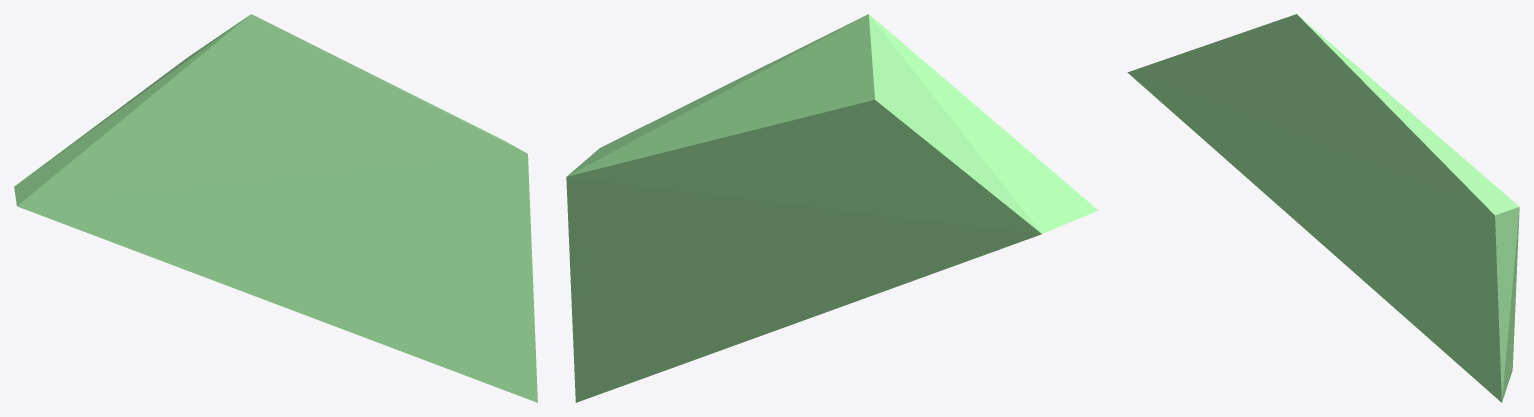
The model's file is xarm7_with_gripper_LR4_R560_link2_respondable_coll_21.dae.
3 views of the same model, side by side, from view 1: azimuth 30°, elevation 25°; view 2: azimuth 150°, elevation 25°; view 3: azimuth 330°, elevation 25° (orthographic). The views are drawn at different scales.
Parts seen in each view (by area): view 1: Node_000001B89B5E2DC0; view 2: Node_000001B89B5E2DC0; view 3: Node_000001B89B5E2DC0.
Part boxes in pixels (x1=…): Node_000001B89B5E2DC0: x1=14, y1=14, x2=537, y2=402; Node_000001B89B5E2DC0: x1=566, y1=14, x2=1098, y2=402; Node_000001B89B5E2DC0: x1=1127, y1=14, x2=1519, y2=402.
Size of the model in its own units: 0.0691 by 0.0584 by 0.00849.
